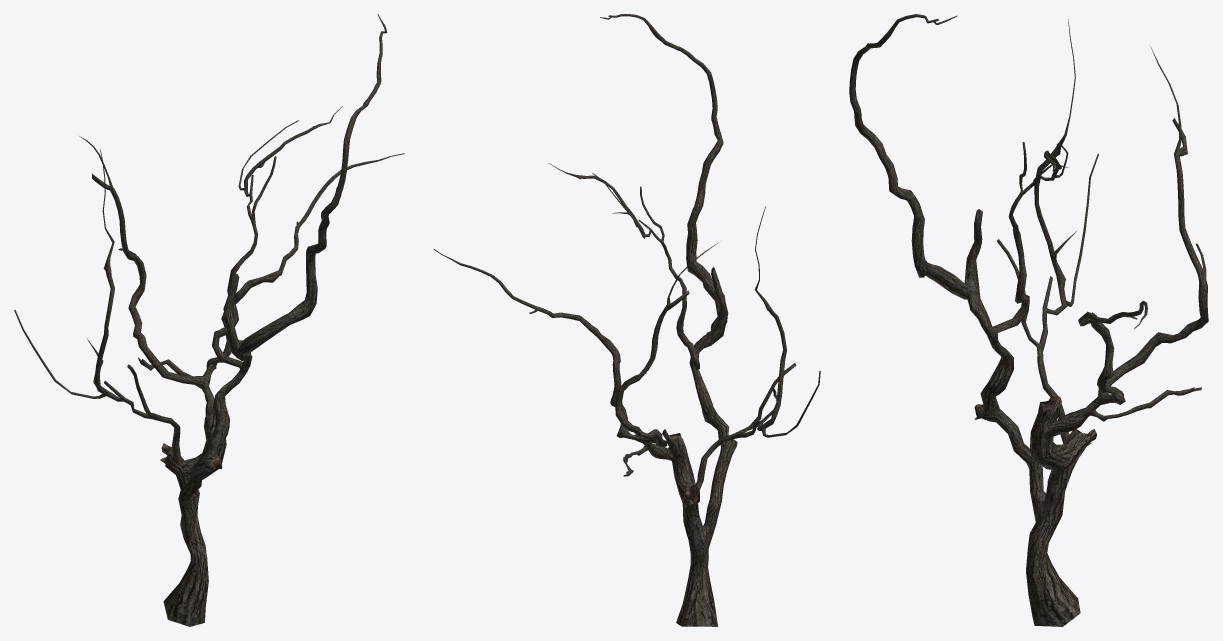
Rendered from trees_branch_1_03.fbx.
3 views of the same model, side by side, from view 1: azimuth 30°, elevation 25°; view 2: azimuth 150°, elevation 25°; view 3: azimuth 270°, elevation 25° (orthographic). The views are drawn at different scales.
Visible parts, largest first — view 1: trees_branch_1_03.ogf 01; view 2: trees_branch_1_03.ogf 01; view 3: trees_branch_1_03.ogf 01.
Part boxes in pixels (<box>): trees_branch_1_03.ogf 01: <box>14,14,404,626</box>; trees_branch_1_03.ogf 01: <box>433,14,820,626</box>; trees_branch_1_03.ogf 01: <box>849,14,1208,626</box>.
Size of the model in its own units: 1751 by 2468 by 1168.
